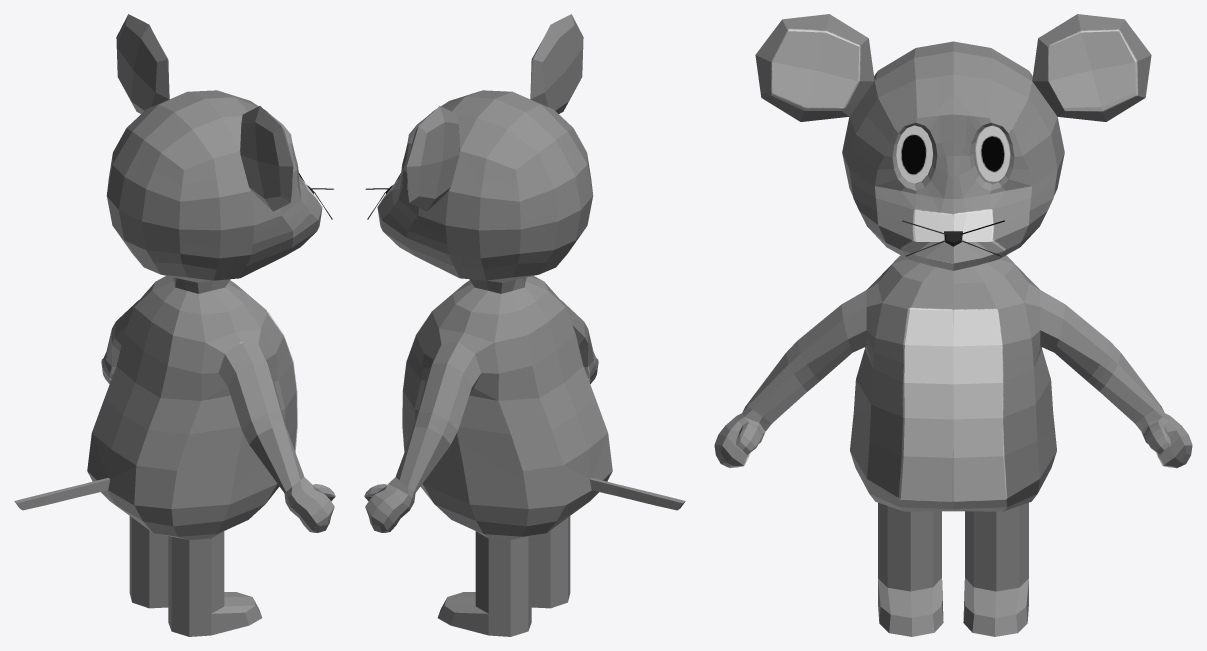
The model's file is rattextured.fbx.
The picture shows the model from 3 angles, left to right: view 1: azimuth 30°, elevation 25°; view 2: azimuth 150°, elevation 25°; view 3: azimuth 270°, elevation 25°; orthographic projection. The views are drawn at different scales.
Visible parts, largest first — view 1: fat chud rat; view 2: fat chud rat; view 3: fat chud rat.
Boxes of the visible parts, x1,y1,x2,y2 form: fat chud rat: (14,14,335,636); fat chud rat: (364,14,685,636); fat chud rat: (714,14,1192,636).
Bounding box in the file's own units: 278 × 483 × 347.
Materials: 1 (1 with a texture image).
